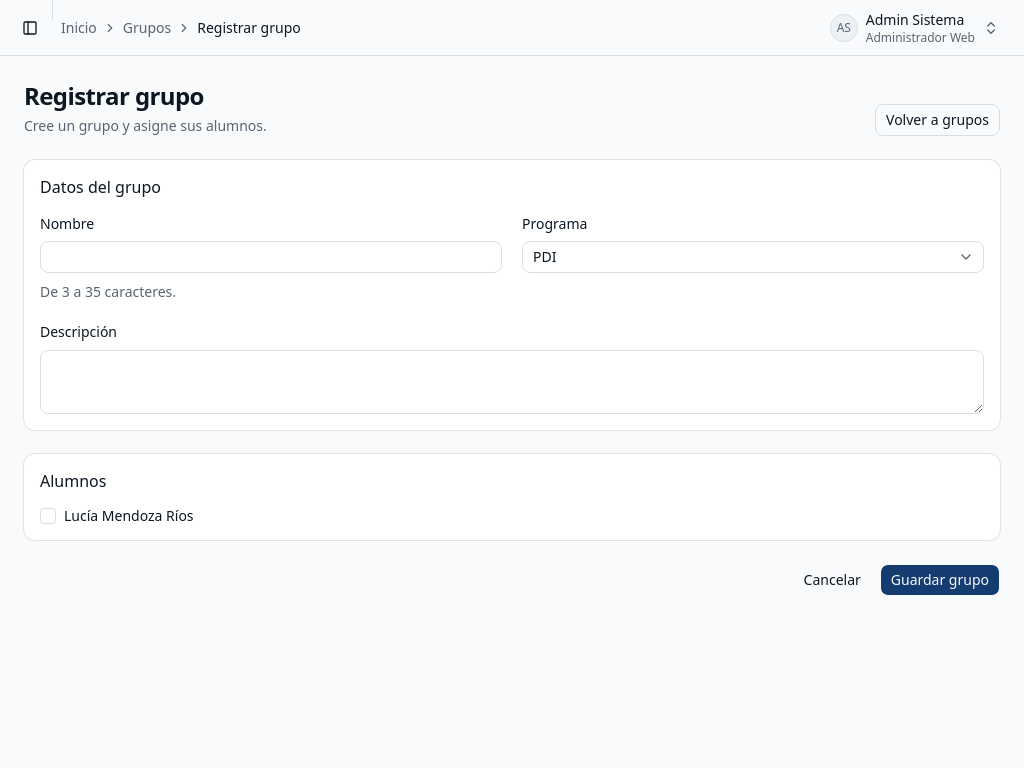
Formulario de grupo › CA-GRU-02 registra un grupo con sus alumnos y abre el detalle
Type "Grupo 7" into the field labelled "Nombre" at (271, 257), box [40, 241, 502, 273]
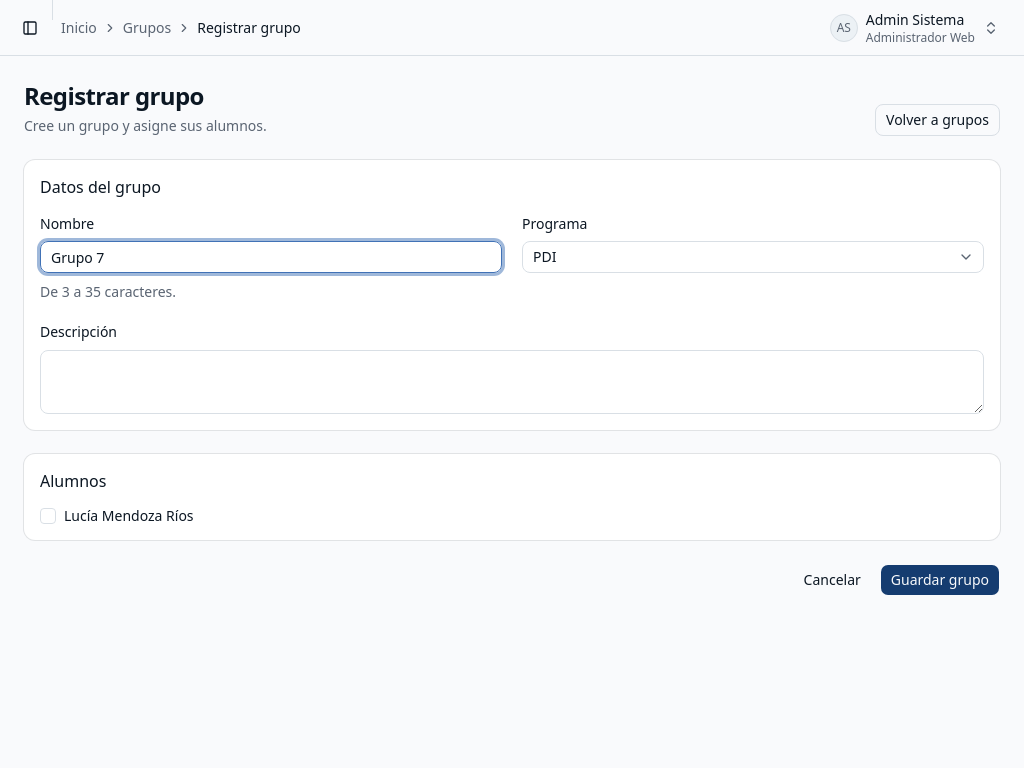
Type "Promoción 2027" into the text box labelled "Descripción" at (512, 382), box [40, 350, 984, 414]
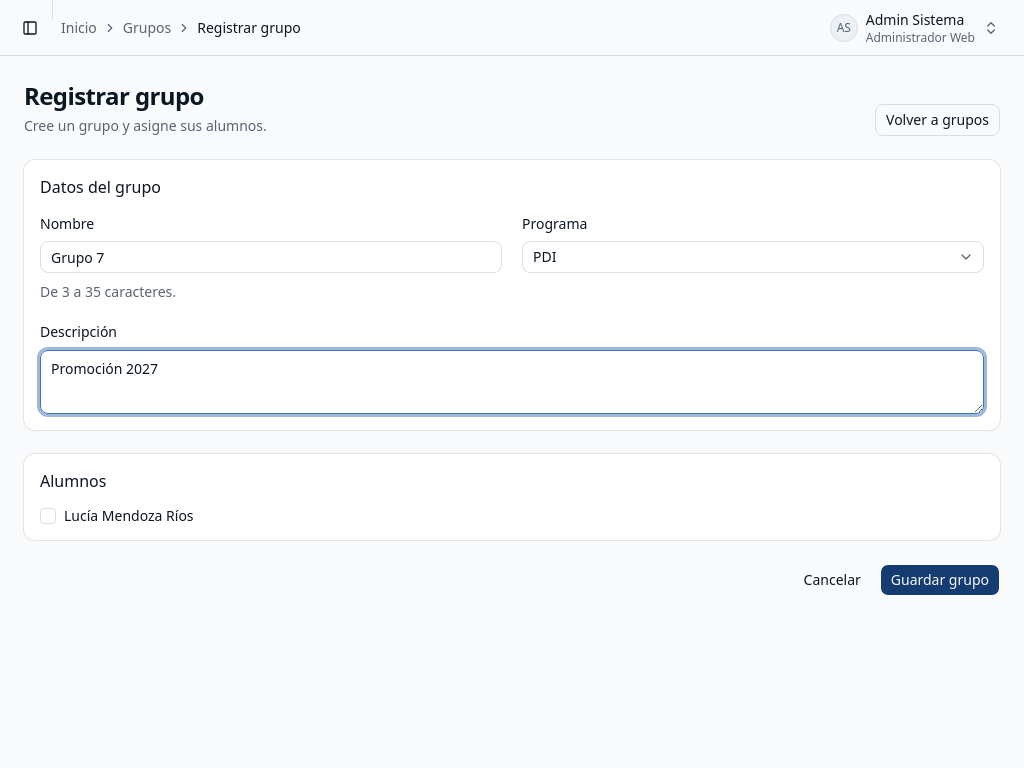
Select "PDE" in the dropdown labelled "Programa" at (753, 257), box [522, 241, 984, 273]
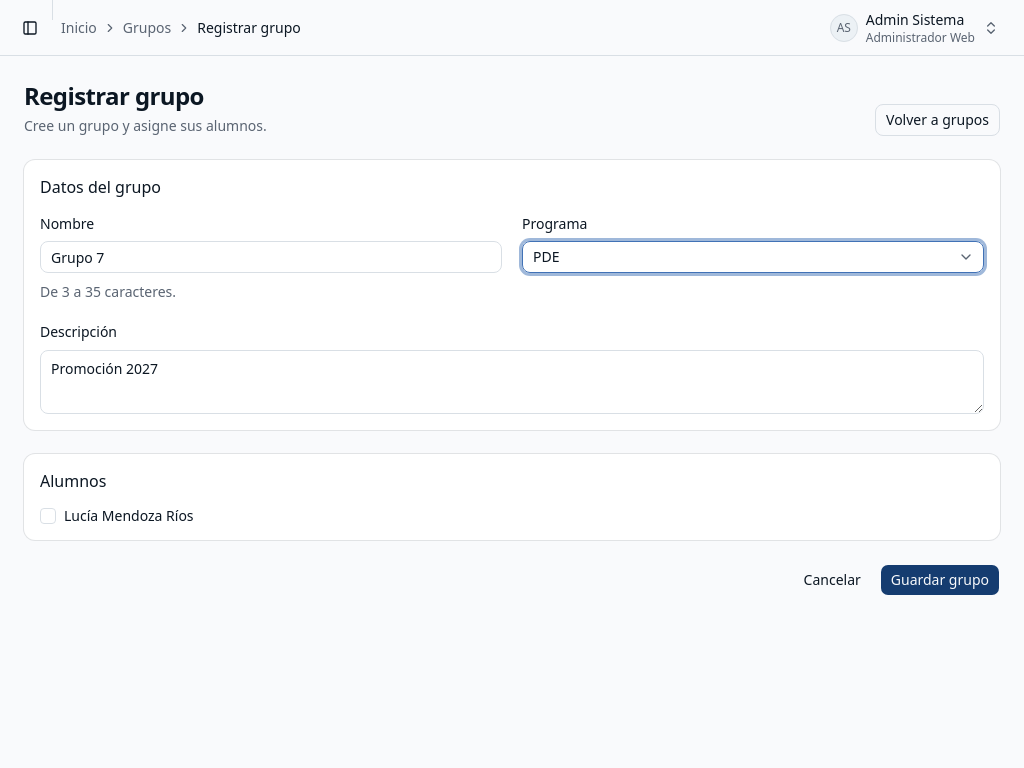
Click the checkbox named "Lucía Mendoza Ríos" at (48, 516), box [40, 508, 56, 524]
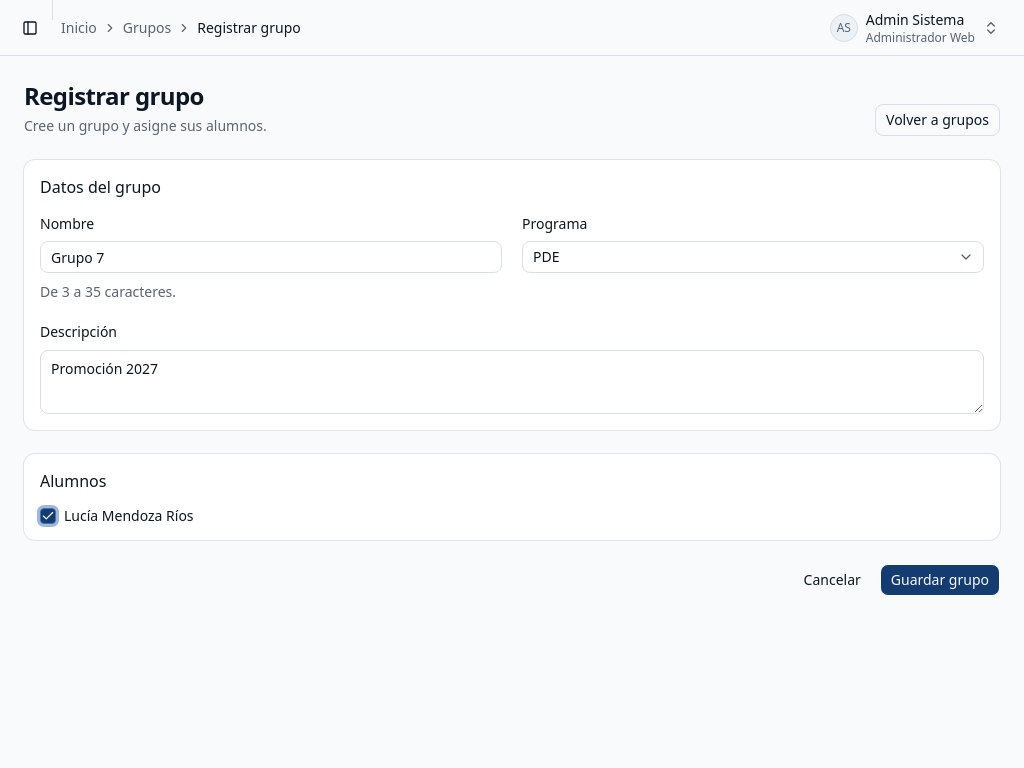
Click the button "Guardar grupo" at (940, 580), box [880, 564, 1000, 596]
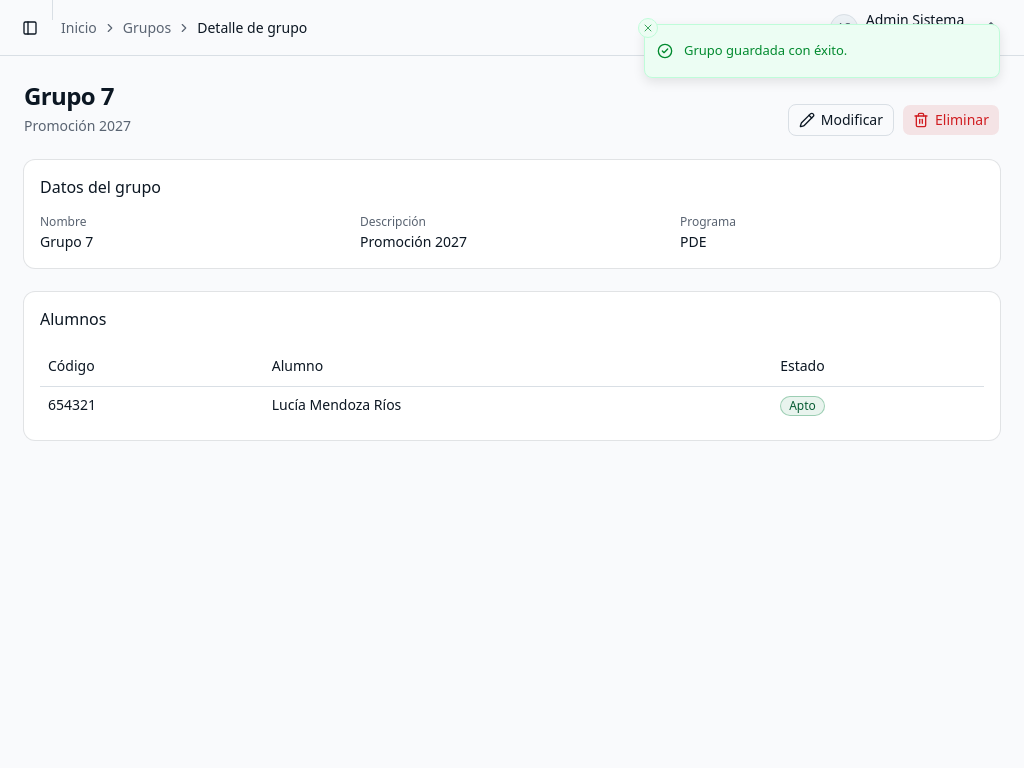
Check: the text "Grupo guardada con éxito." is shown, box [684, 41, 847, 60]
Check: the heading "Grupo 7" is shown, box [24, 79, 114, 112]
Check: the table named "Alumnos del grupo" shows "Lucía Mendoza Ríos", box [272, 395, 401, 414]
